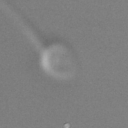normal: (1, 1, 44, 49)
